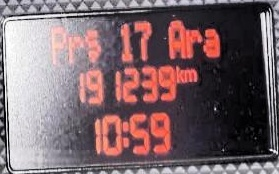0: (101, 113, 121, 153)
1: (119, 21, 131, 60), (93, 118, 100, 153), (77, 71, 84, 102), (114, 70, 120, 101)
2: (122, 67, 138, 101)
3: (141, 66, 157, 101)
5: (128, 112, 147, 153)
7: (134, 20, 150, 59)
9: (150, 111, 169, 152), (157, 65, 174, 100), (85, 69, 102, 103)
X: (167, 19, 184, 58), (49, 25, 66, 63), (83, 28, 100, 62), (202, 27, 219, 57), (66, 33, 82, 64), (184, 28, 201, 57), (121, 120, 128, 147), (183, 69, 195, 82), (175, 64, 183, 81)
